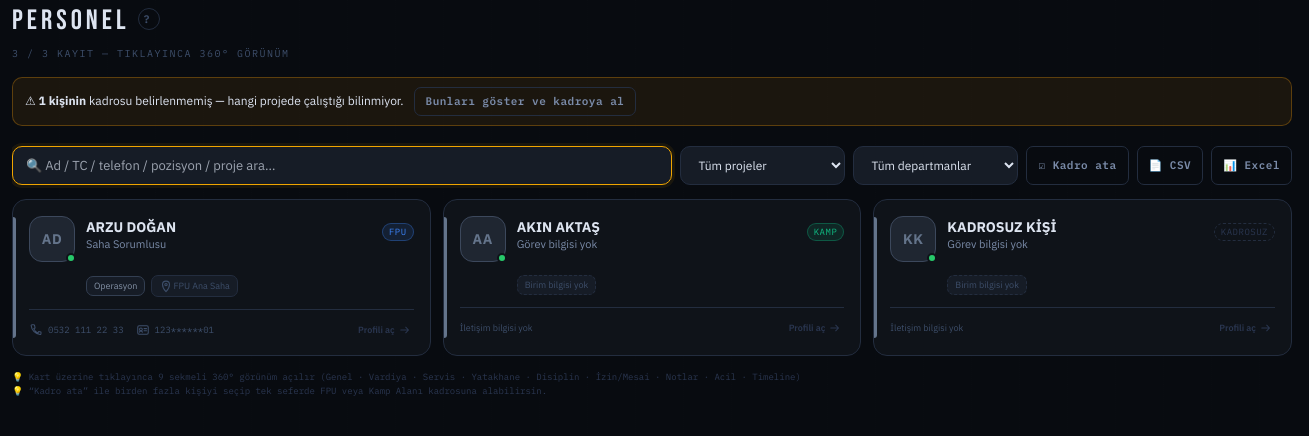
Test: Personel listesi — kadro › proje filtresi listeyi süzer
This screenshot has width=1309, height=436.
Expected: the heading "ARZU DOĞAN" is shown, [86, 218, 176, 237]
Select "Kamp Alanı (1)" in the dropdown named "Proje filtresi": (763, 165) [680, 146, 845, 185]
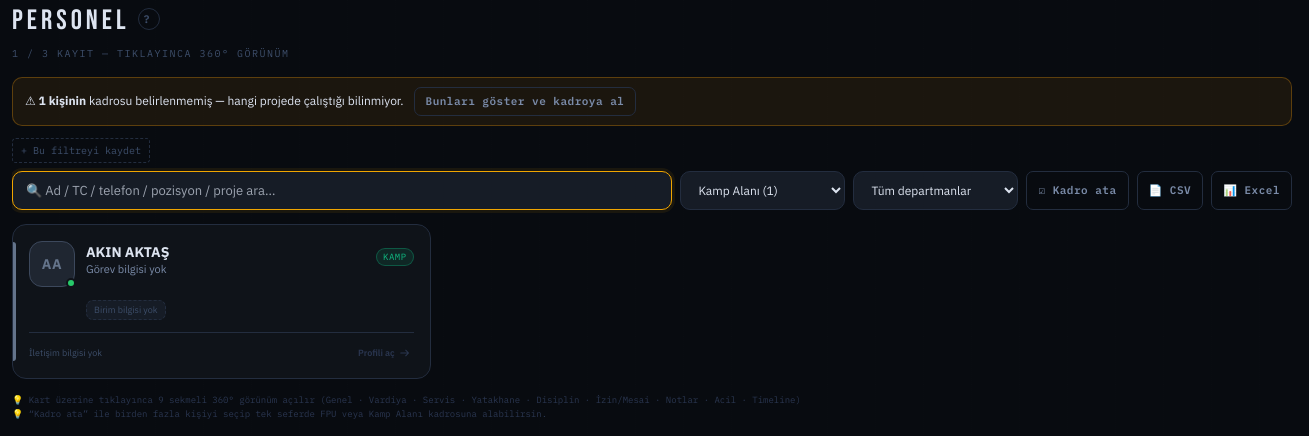
Expected: the heading "AKIN AKTAŞ" is shown, [86, 243, 169, 262]
Now the heading "ARZU DOĞAN" is gone
